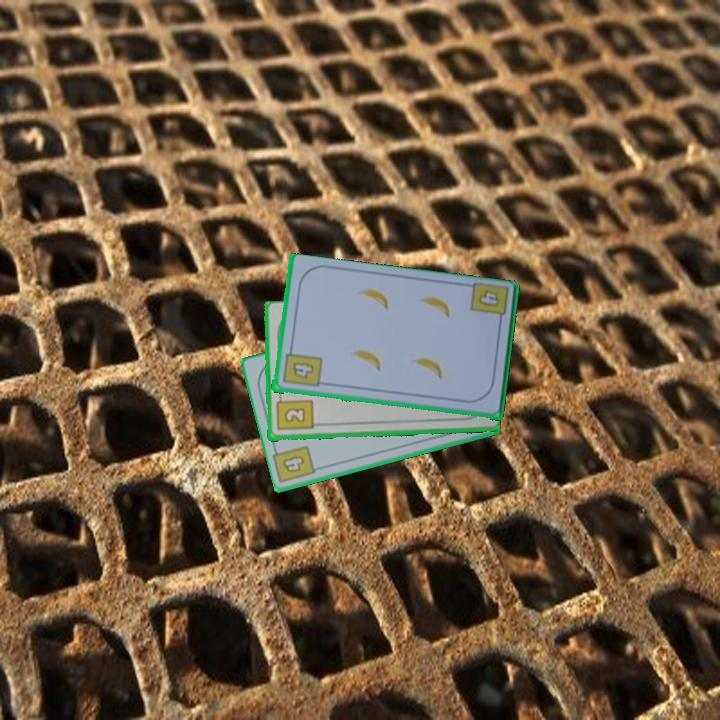2b: (272, 391, 315, 433)
4b: (466, 281, 511, 329), (279, 344, 324, 390), (278, 452, 307, 476)
